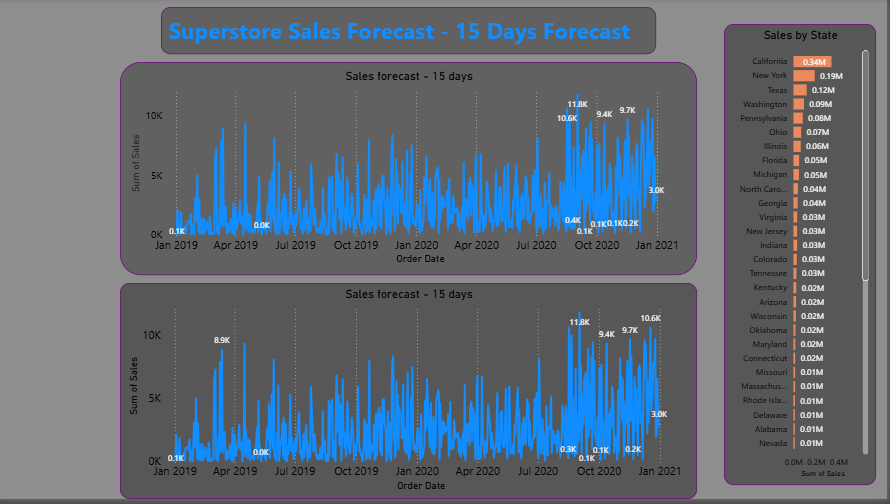

Layout of this report page (visuals, bound fields, positions):
{"tool":"powerbi","page":{"name":"Sales Forecast","canvas":[1280,720],"ordinal":1},"visuals":[{"type":"lineChart","title":"Sales forecast - 15 days","fields":{"Y":["Sum(SuperStore_Sales_Dataset.Sales)"],"Category":["SuperStore_Sales_Dataset.Order Date"]},"box":[174.2,90.7,830.9,306.7],"z":0},{"type":"lineChart","title":"Sales forecast - 15 days","fields":{"Y":["Sum(SuperStore_Sales_Dataset.Sales)"],"Category":["SuperStore_Sales_Dataset.Order Date"]},"box":[174.2,409,830.9,311],"z":1000},{"type":"textbox","box":[233.3,11.5,712.8,67.7],"z":2000},{"type":"barChart","title":"Sales by State","fields":{"Category":["SuperStore_Sales_Dataset.State"],"Y":["Sum(SuperStore_Sales_Dataset.Sales)"]},"box":[1044,36,218.9,663.8],"z":3000}]}

Visuals, with their boxes in screenshot pixels (x1, y1, x2, y2), scaled from the page's 1280x720 canvas onto the 890x504 screenshot:
"Sales forecast - 15 days" lineChart: (121,63,699,278)
"Sales forecast - 15 days" lineChart: (121,286,699,503)
textbox: (162,8,658,55)
"Sales by State" barChart: (726,25,878,490)
